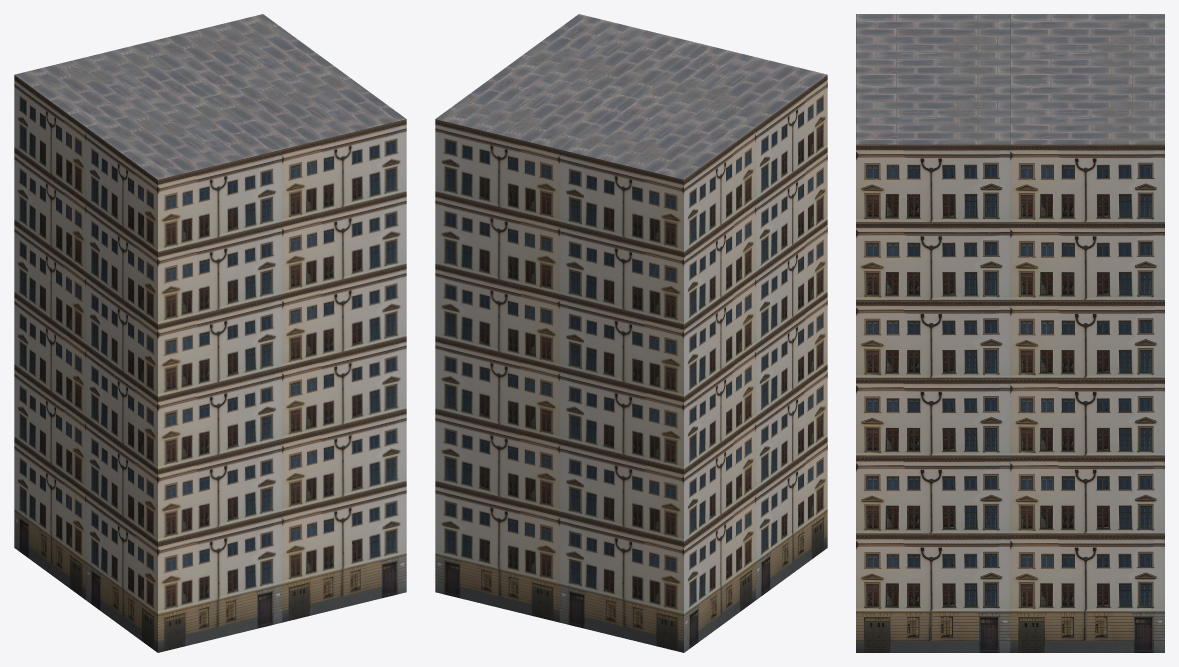
File: Building062..fbx
The picture shows the model from 3 angles, left to right: view 1: azimuth 30°, elevation 25°; view 2: azimuth 150°, elevation 25°; view 3: azimuth 270°, elevation 25°; orthographic projection. The views are drawn at different scales.
Parts seen in each view (by area): view 1: Building062; view 2: Building062; view 3: Building062.
Part boxes in pixels (x1,y1,x2,y2): Building062: [14, 14, 406, 652]; Building062: [435, 14, 827, 652]; Building062: [856, 14, 1164, 652].
Bounding box in the file's own units: 16.88 × 30.66 × 16.88.
